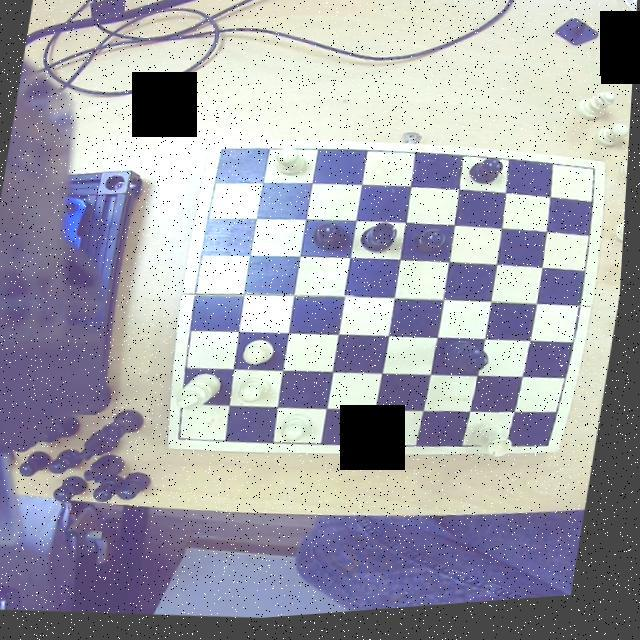chess-table-corners: (211, 144, 239, 170), (536, 444, 566, 464), (171, 427, 196, 451), (582, 172, 608, 194)
